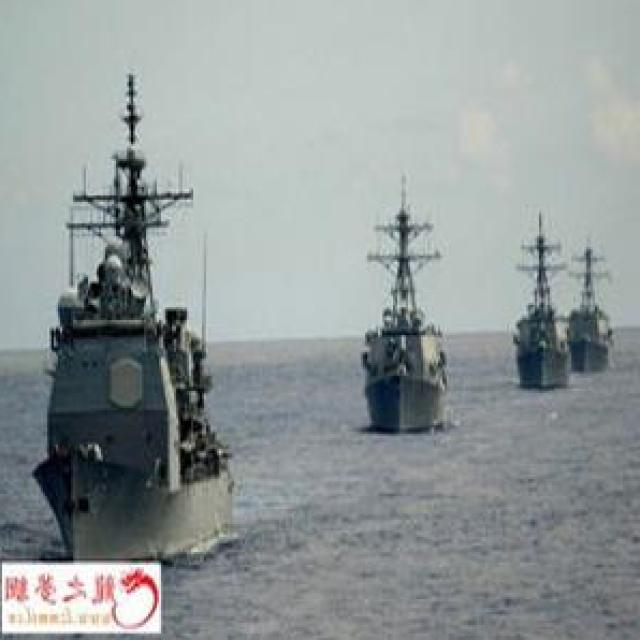navalvessels: (33, 73, 256, 573), (345, 205, 465, 452), (506, 213, 589, 390), (581, 238, 632, 374)
